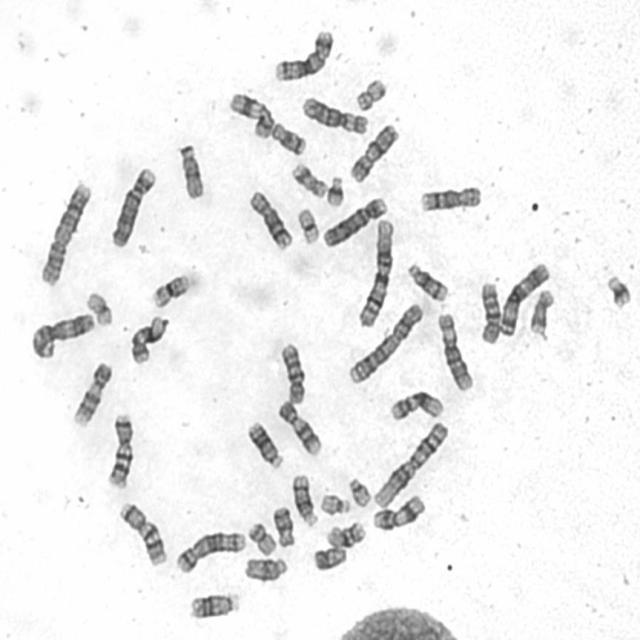A1: (369, 417, 451, 510), (354, 214, 397, 330)
A2: (344, 298, 425, 386), (35, 177, 93, 287)
A3: (495, 257, 552, 338), (26, 307, 96, 360)
B4: (107, 161, 157, 249), (318, 192, 389, 249)
B5: (270, 25, 335, 83), (172, 526, 247, 574)
C10: (276, 337, 308, 406), (475, 276, 502, 346)
C11: (225, 87, 274, 140), (368, 491, 426, 532)
C12: (126, 310, 170, 366), (386, 386, 445, 422)
C6: (433, 308, 475, 392), (298, 92, 370, 136)
C7: (114, 497, 168, 567), (103, 408, 135, 490)
C8: (244, 186, 294, 252), (416, 181, 483, 214)
C9: (68, 358, 114, 427), (274, 397, 323, 458)
D13: (243, 416, 284, 470), (185, 588, 241, 620)
D14: (403, 258, 450, 304), (288, 469, 319, 528)
D15: (174, 138, 206, 201), (240, 552, 289, 584)
E16: (148, 268, 192, 309), (322, 517, 367, 549)
E17: (288, 158, 328, 199), (526, 285, 555, 336)
E18: (267, 118, 308, 156), (268, 502, 296, 548)
F19: (82, 286, 114, 328), (293, 203, 321, 246)
F20: (352, 74, 388, 112), (244, 518, 277, 557)
G21: (602, 270, 634, 310), (322, 172, 344, 208)
G22: (345, 473, 373, 508), (316, 489, 351, 516)
X: (346, 120, 400, 184)
Y: (309, 542, 348, 572)
